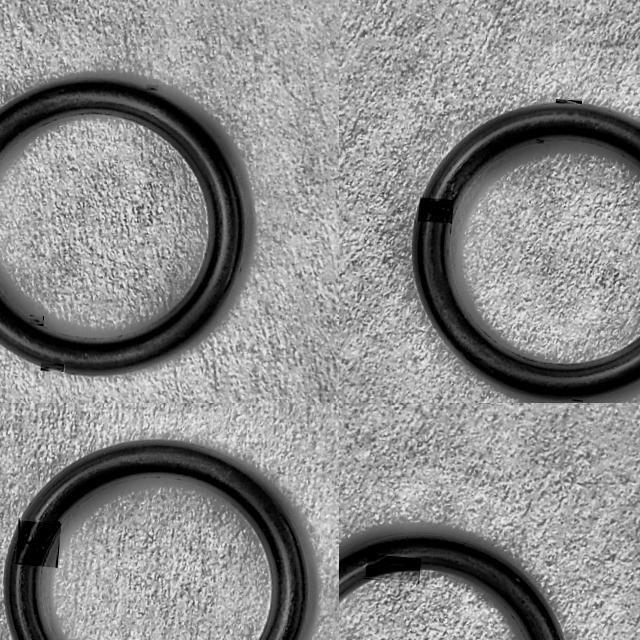侧边压痕: (40, 363, 63, 372), (556, 98, 576, 104), (146, 85, 157, 91), (571, 399, 582, 401)
切割缺陷: (17, 524, 60, 566), (365, 557, 419, 577), (418, 198, 453, 222)
裂纹: (29, 317, 43, 324), (536, 139, 543, 143)
